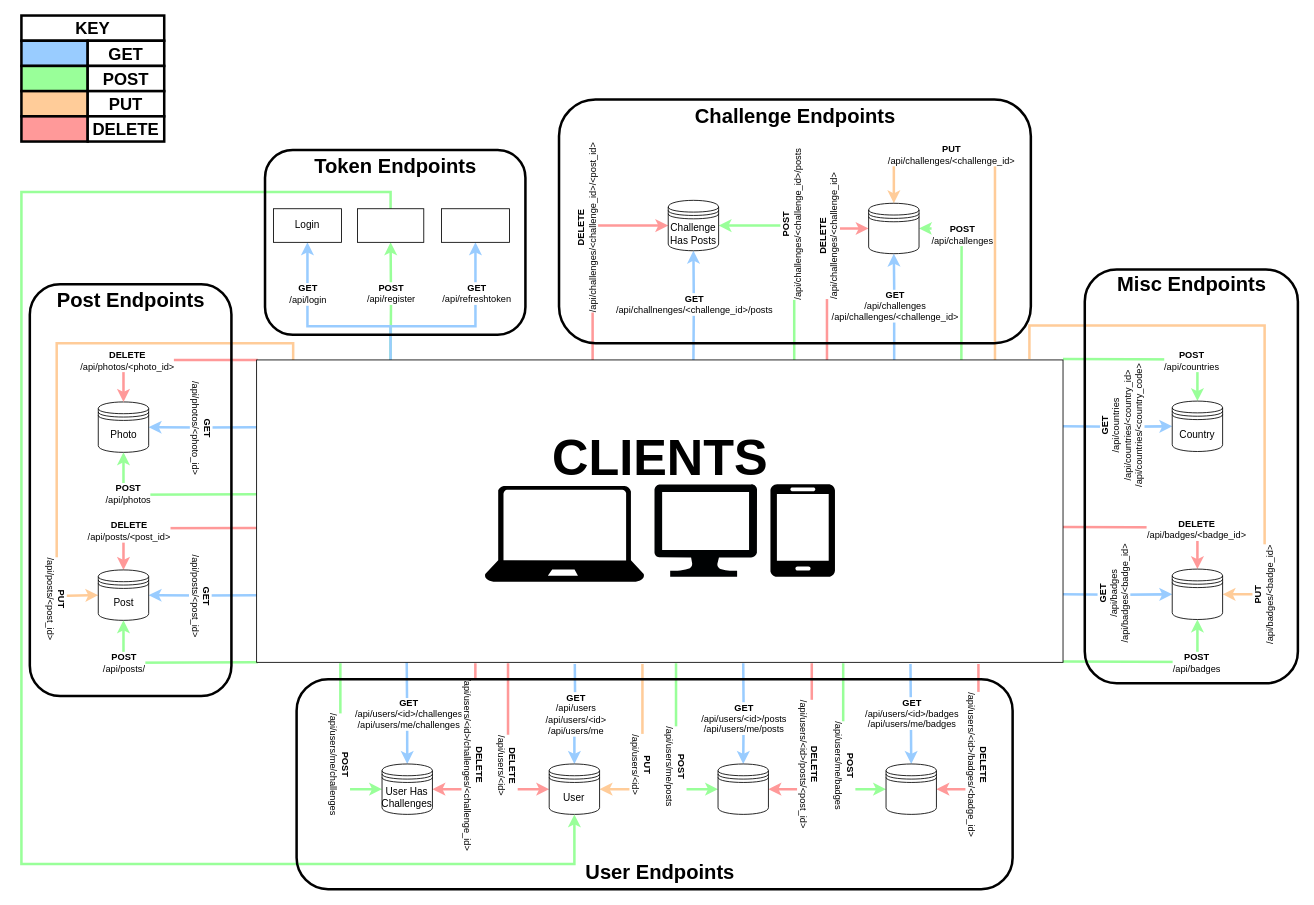
Some shapes in this 1314 by 905 pixel diagram are drawn without their labels. The box of each missing label's shape, as (x1, y1, x2, y2) in pixels:
Badge: (1171, 568, 1223, 620)
Challenge: (868, 202, 919, 254)
Refresh Token: (441, 208, 509, 242)
Register: (357, 208, 424, 242)
User Has Badges: (885, 763, 936, 814)
User Has Posts: (717, 763, 768, 814)
